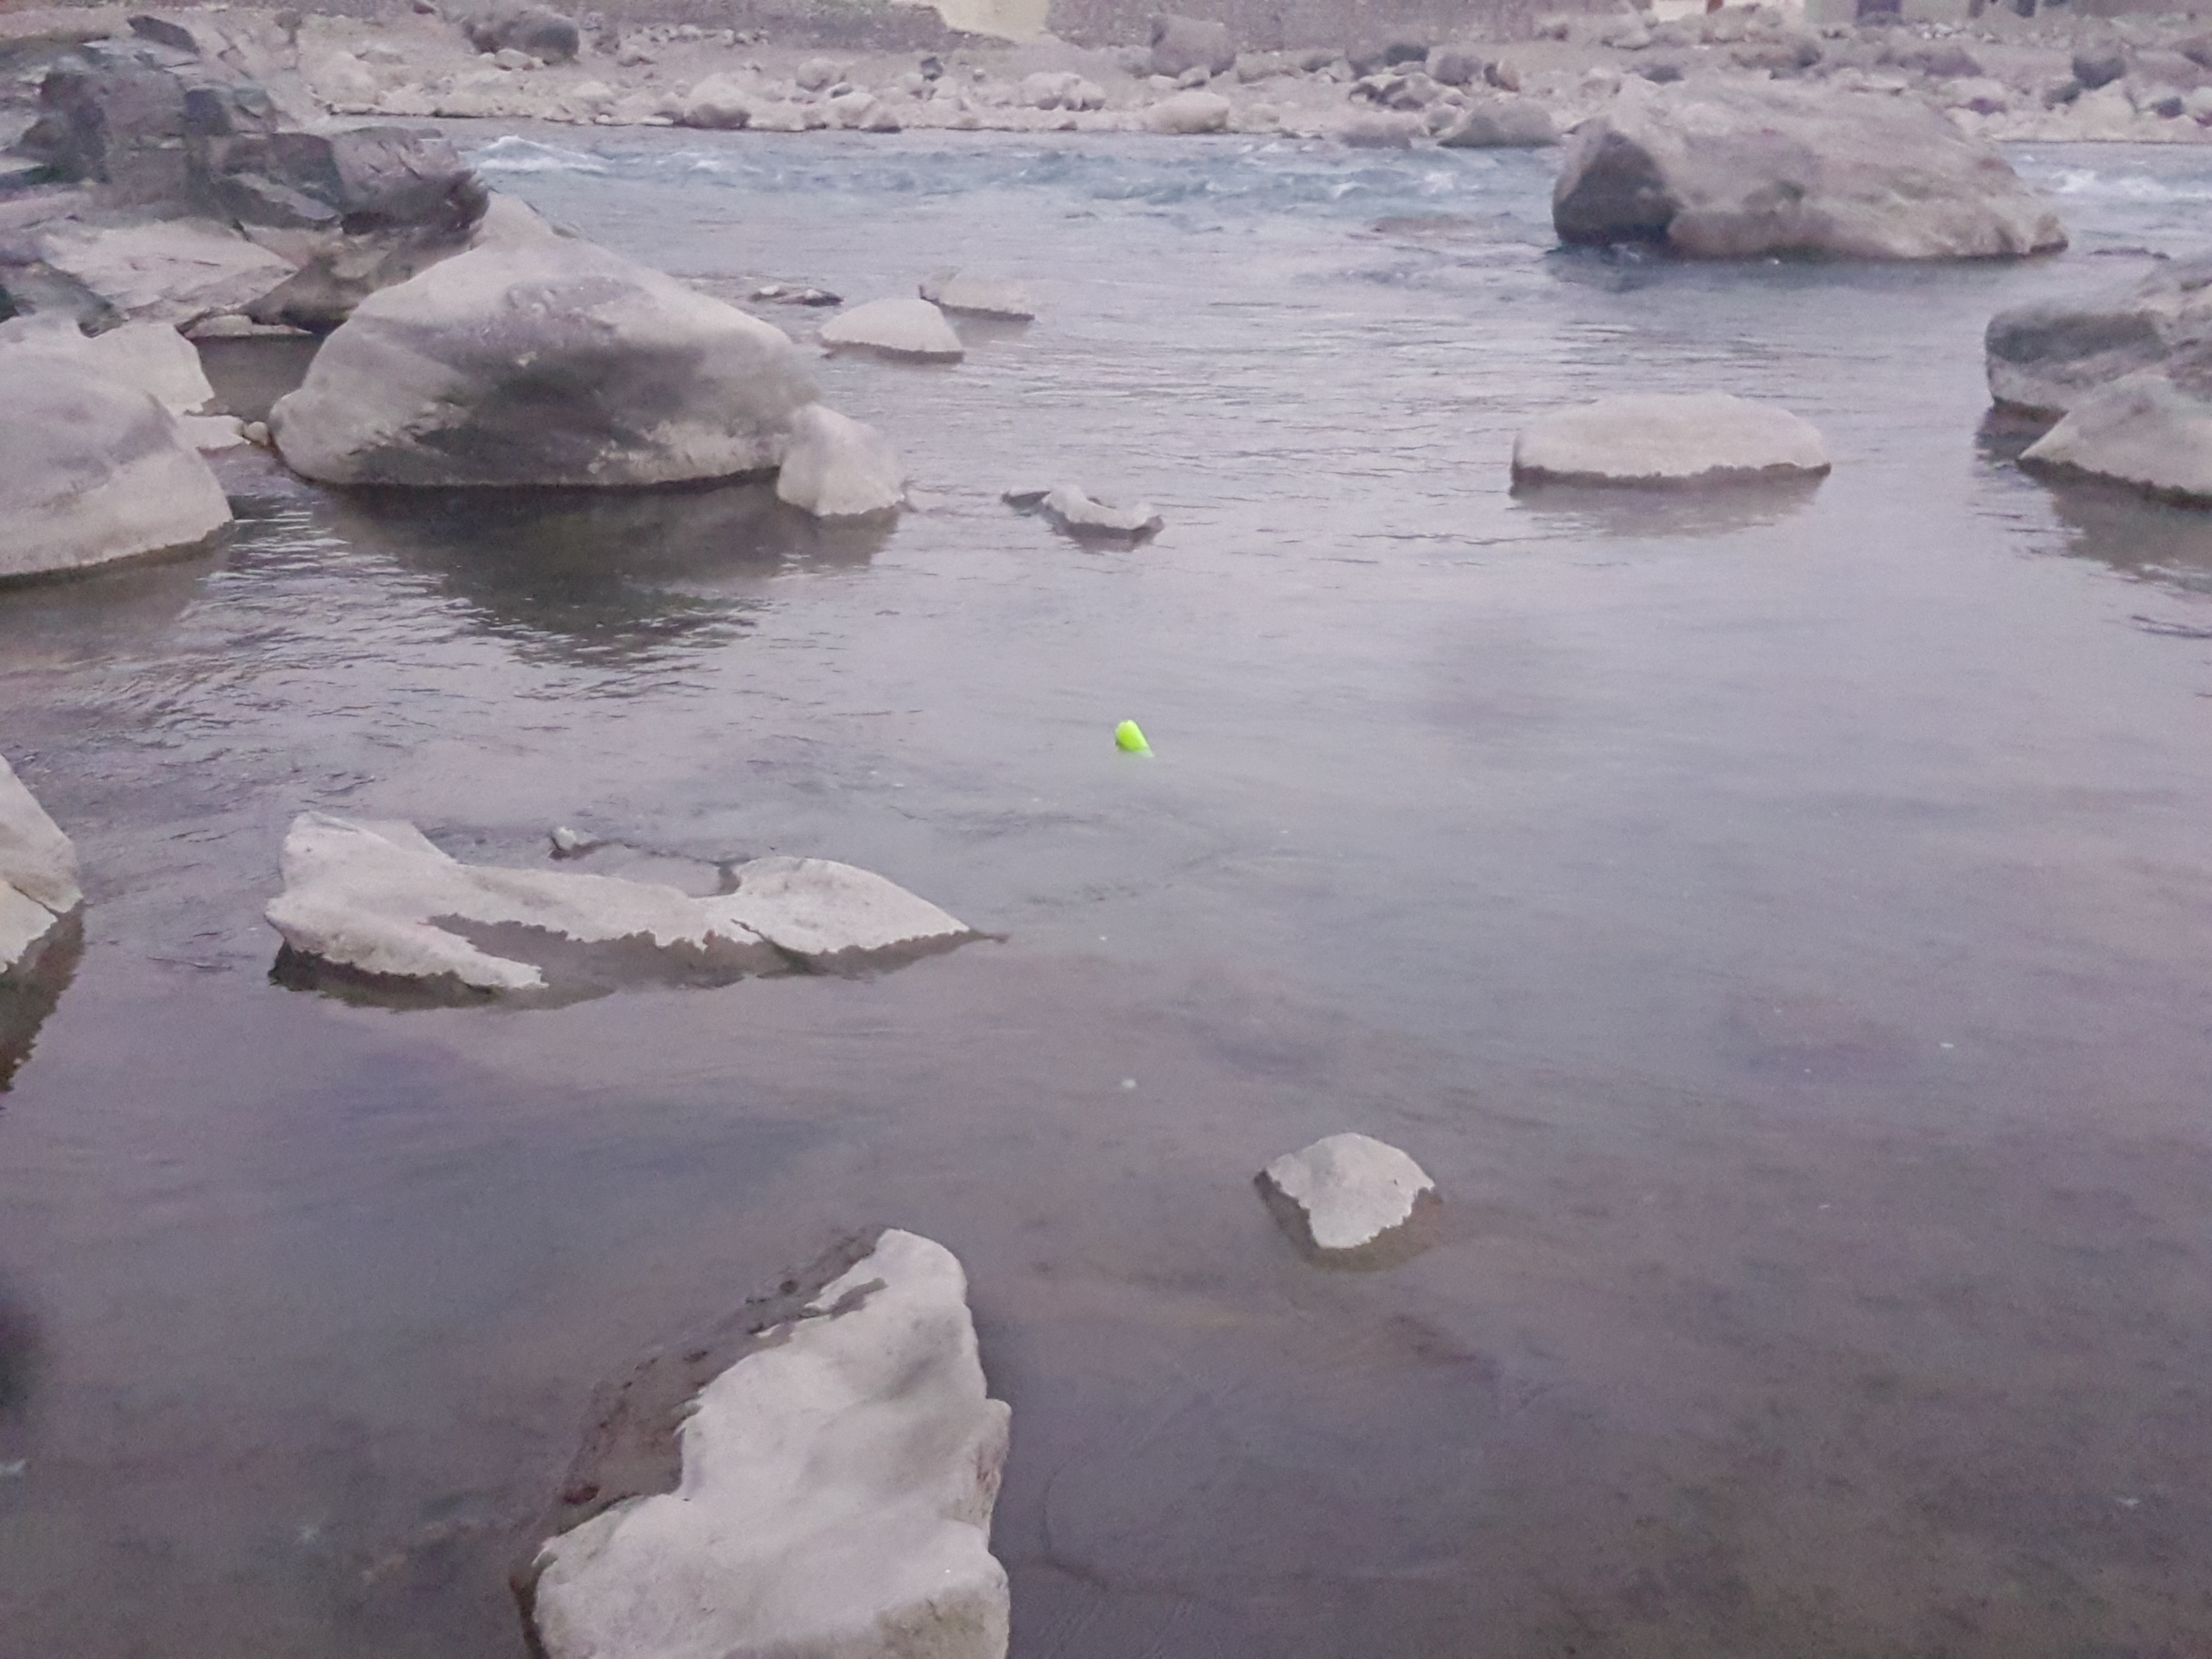Plastic Bottle: (1115, 720, 1148, 751)
